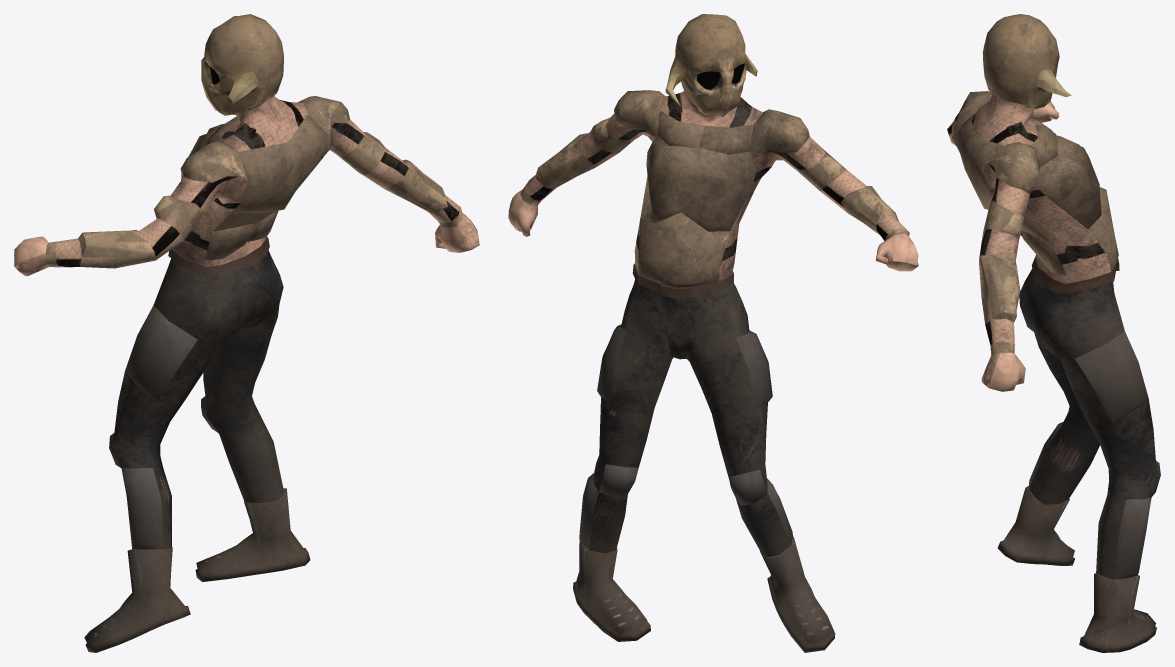
The model's file is Anim_ataque_f3_npc1.0036.obj.
3 renders of one model, left to right at view 1: azimuth 30°, elevation 25°; view 2: azimuth 150°, elevation 25°; view 3: azimuth 270°, elevation 25°, orthographic. The views are drawn at different scales.
Parts seen in each view (by area): view 1: NPC2; view 2: NPC2; view 3: NPC2.
Part boxes in pixels (left/top/right/bottom): NPC2: left=14, top=14, right=479, bottom=652; NPC2: left=508, top=14, right=918, bottom=652; NPC2: left=947, top=14, right=1160, bottom=652.
Size of the model in its own units: 7.12 by 9.42 by 3.
